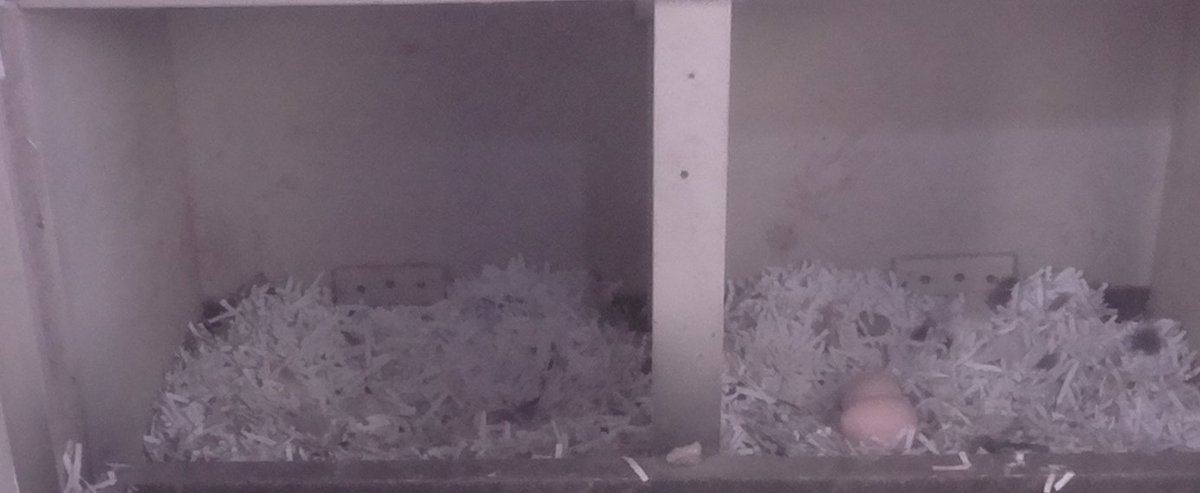egg: (838, 392, 923, 454), (835, 372, 913, 405)
